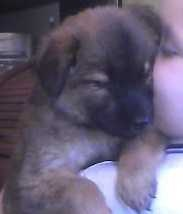dog: (13, 0, 183, 199)
